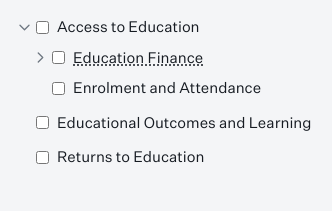
Test: ConceptSchemeFilter (collapsible) › expand and collapse toggle a branch's visibility and aria-expanded
Click the button named "Child concepts of Education Finance" at {"x": 40, "y": 58}, box [28,46,52,70]
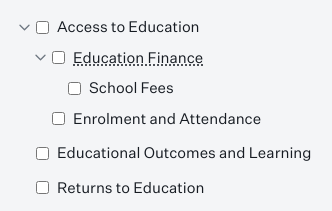
Expected: the button named "Child concepts of Education Finance" is expanded
Expected: the checkbox labelled "School Fees" is shown, [68,82,81,95]
Click the button named "Child concepts of Education Finance" at {"x": 40, "y": 58}, box [28,46,52,70]
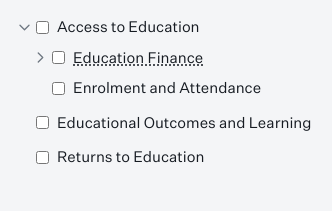
Expected: the button named "Child concepts of Education Finance" is collapsed, [28,46,52,70]
Expected: the text labelled "School Fees" is gone
